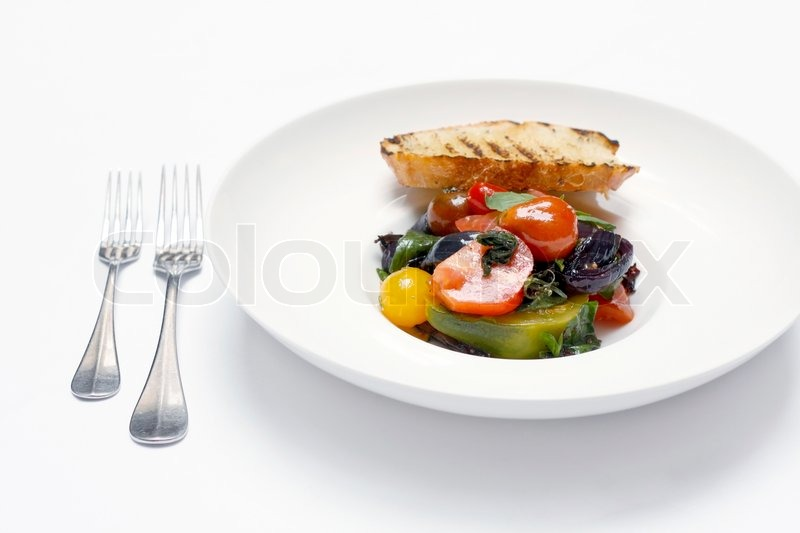slice of bread: (381, 119, 624, 192)
